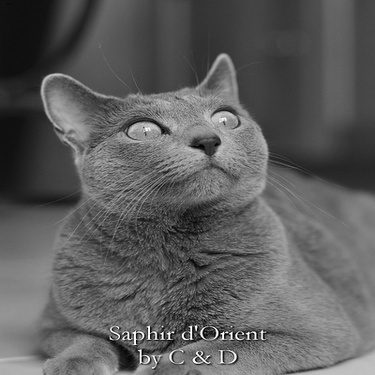cat: (33, 52, 369, 371)
